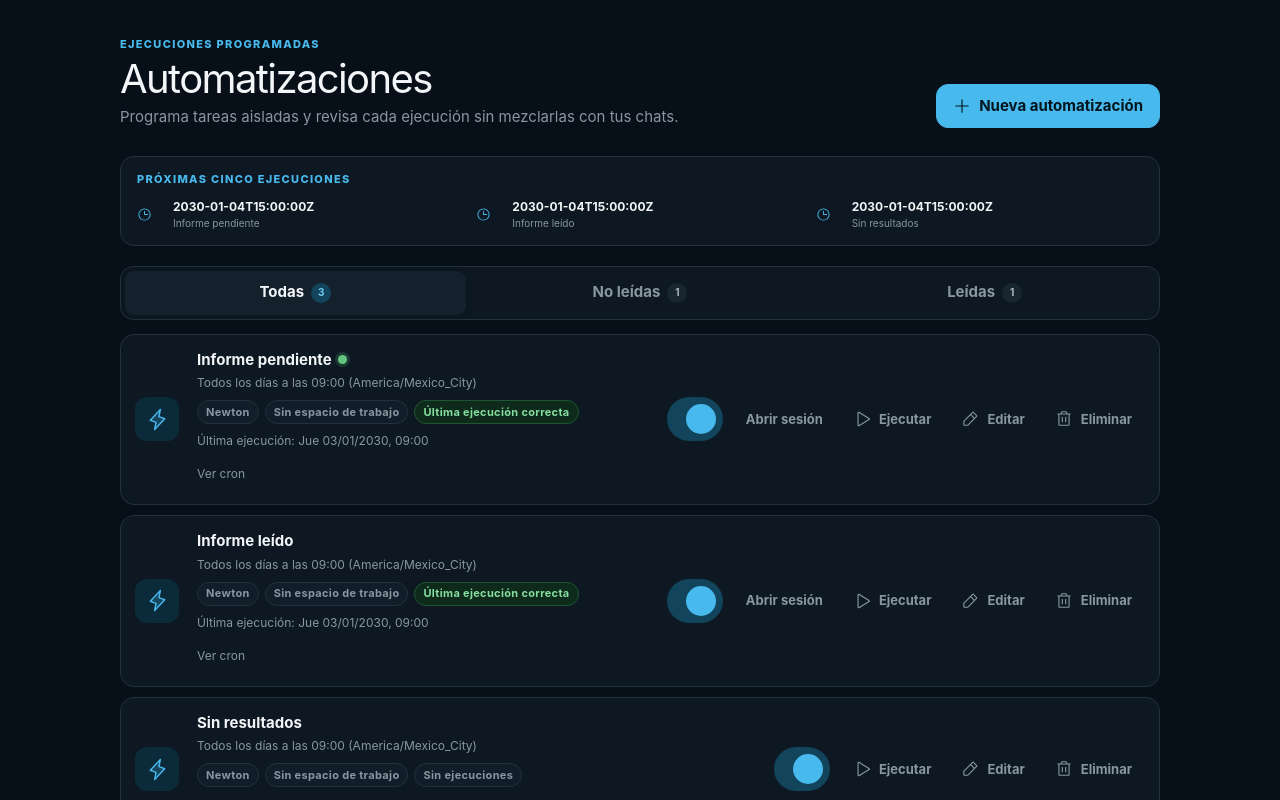
automation editor contract › filters automations by the persisted read state of their latest result
Check: the picture named "Resultado no leído" is shown, box [338,355,347,364]
Check: the 1st text "Jue 03/01/2030, 09:00" is shown, box [298,433,429,448]
What coordinates should you click on to do the following:
click the tab "No leídas 1"
I would click on:
 (640, 292)
Its box is [470,270,810,314].
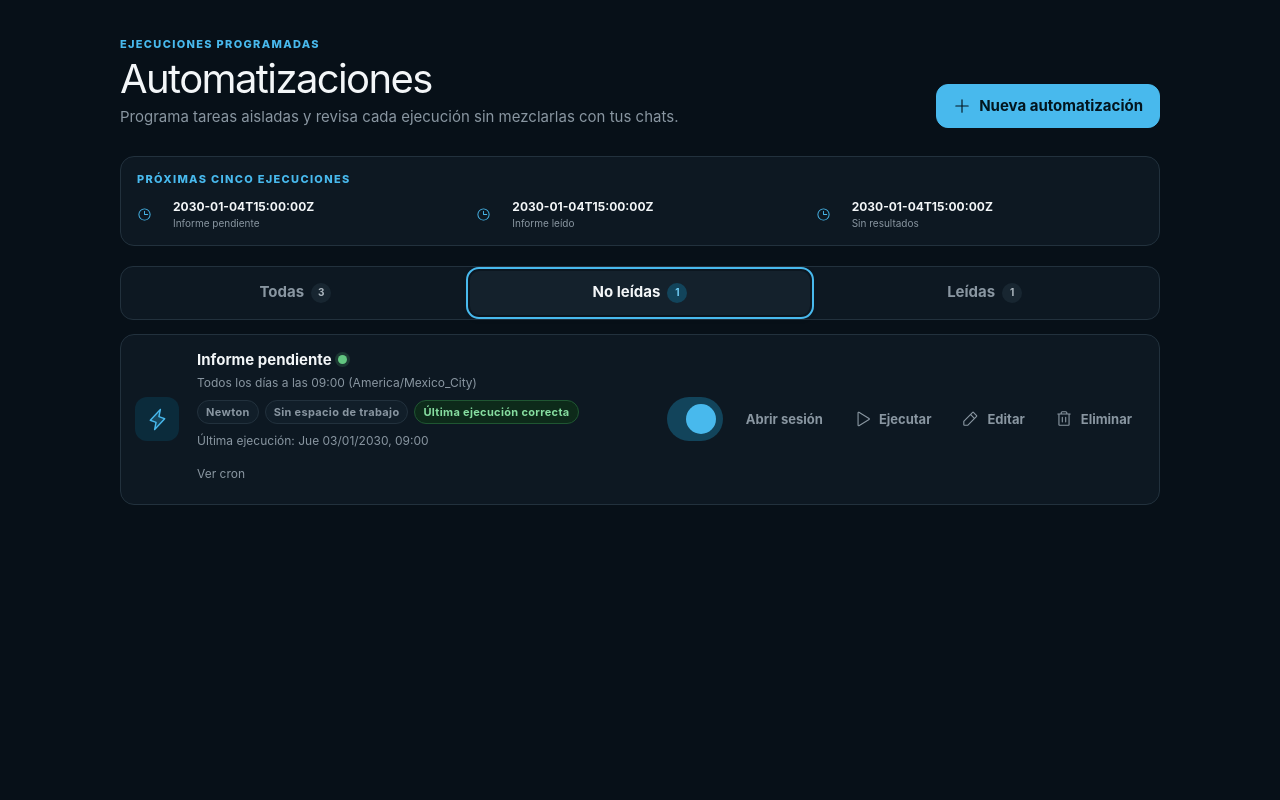
Check: the element with class "automation-row" shows "Informe pendiente", box [197,350,332,368]
Check: the number of elements with class "automation-row" is 1, box [120,334,1160,505]
What coordinates should you click on to do the following:
click the tab "Leídas 1"
I would click on:
 (985, 292)
Its box is [814,270,1155,314].
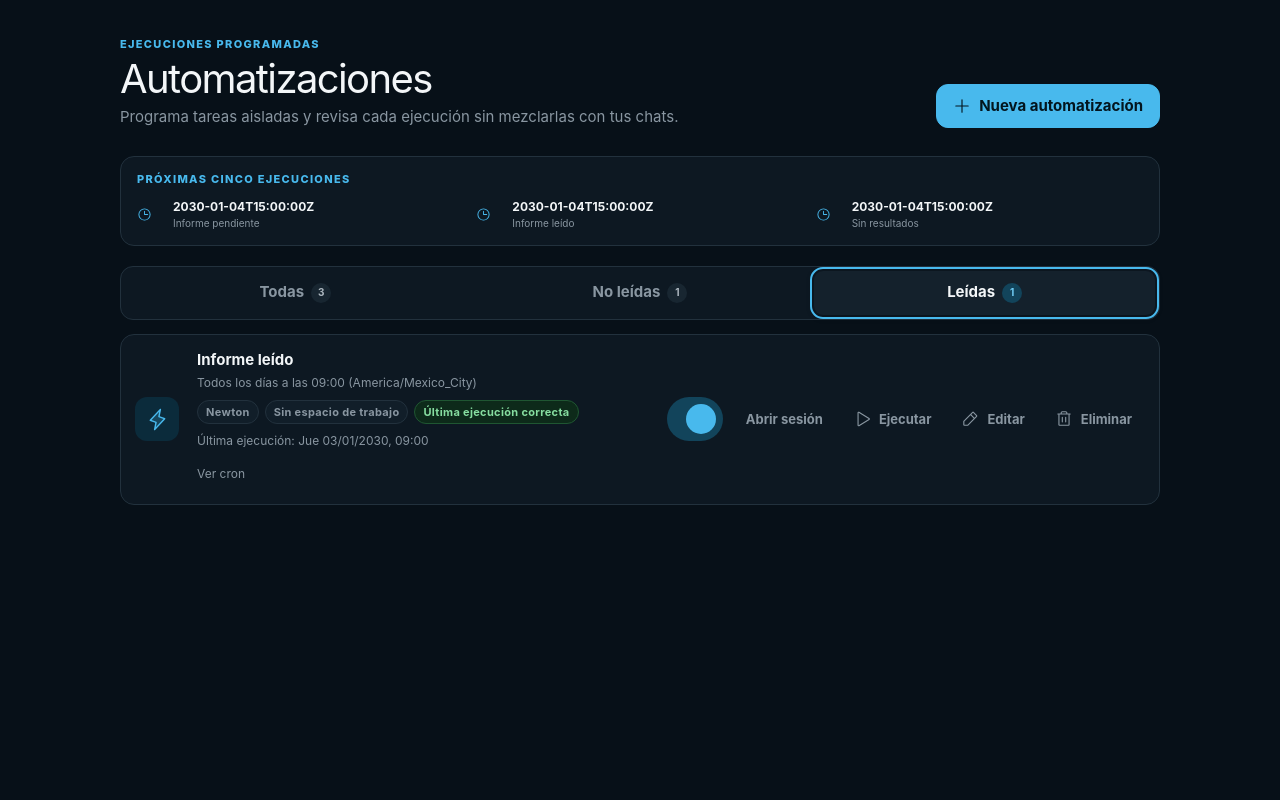
Check: the number of elements with class "automation-row" is 1, box [120,334,1160,505]
Check: the element with class "automation-row" shows "Informe leído", box [197,350,294,368]
